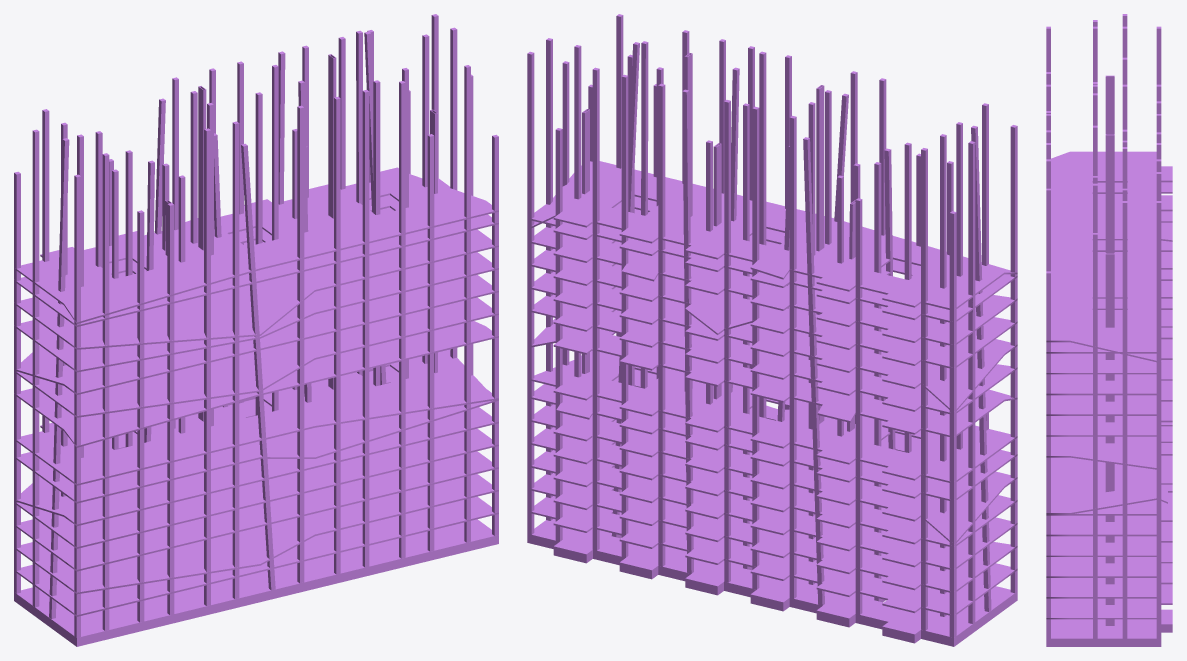
The model's file is Building_01_2.FBX.
3 views of the same model, side by side, from view 1: azimuth 30°, elevation 25°; view 2: azimuth 150°, elevation 25°; view 3: azimuth 270°, elevation 25° (orthographic). The views are drawn at different scales.
Parts seen in each view (by area): view 1: Building_01_2; view 2: Building_01_2; view 3: Building_01_2.
Part boxes in pixels (x1,y1,x2,y2): Building_01_2: (14, 14, 498, 646); Building_01_2: (527, 14, 1017, 646); Building_01_2: (1046, 14, 1172, 646).
Bounding box in the file's own units: 58402 × 66934 × 16544.
